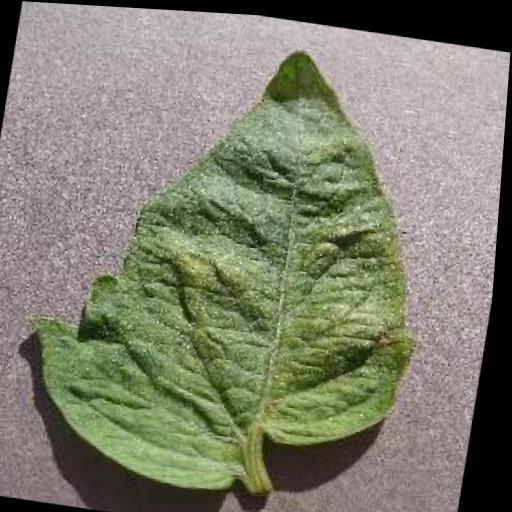Spider Mites: (14, 15, 464, 512)
